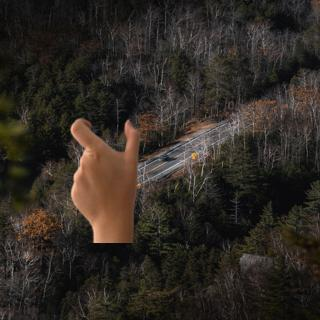HATE: (66, 115, 146, 233)
